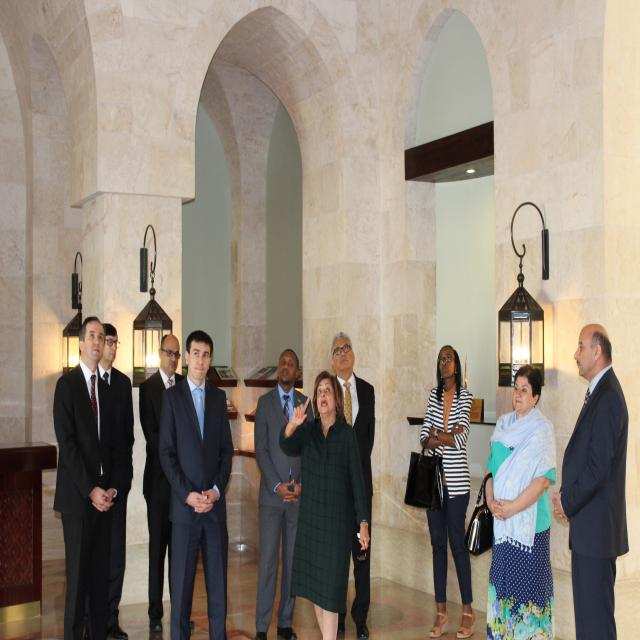body: (278, 368, 372, 640), (552, 322, 632, 640), (51, 313, 124, 640), (158, 328, 234, 640), (403, 343, 477, 640), (481, 361, 558, 640), (253, 347, 317, 640), (138, 332, 196, 640), (330, 330, 377, 640), (98, 322, 136, 640)
